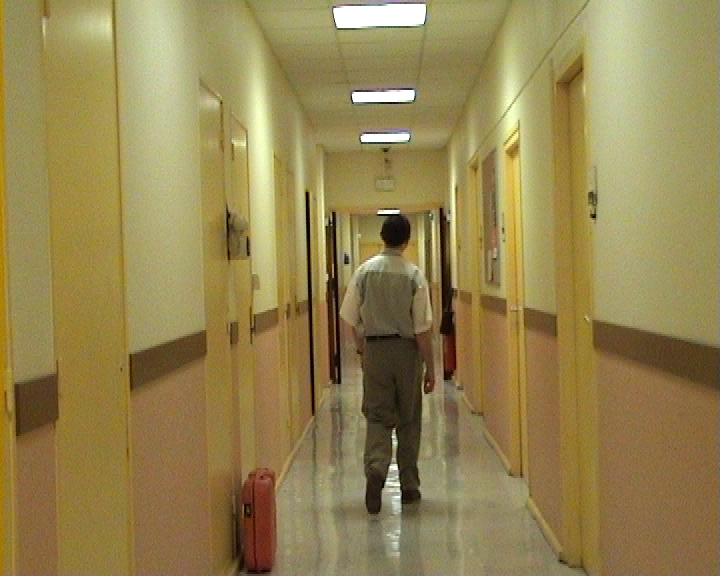leave bag unattended: (210, 457, 296, 576)
